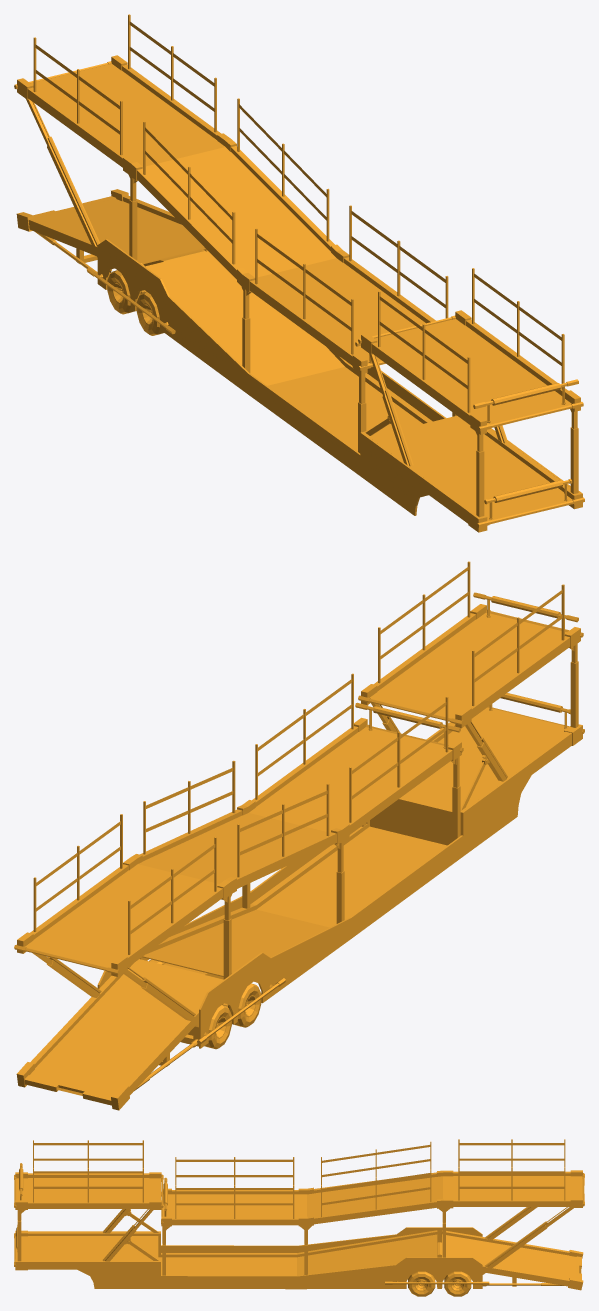
The model's file is SM_Car_Truck_Trailer_Car_Modern.fbx.
3 renders of one model, top to bottom at view 1: azimuth 30°, elevation 25°; view 2: azimuth 150°, elevation 25°; view 3: azimuth 270°, elevation 25°, orthographic. The views are drawn at different scales.
Parts seen in each view (by area): view 1: SM_Car_Truck_Trailer_Car_Modern_Base, SM_Car_Truck_Trailer_Car_Modern_Wheel_RB, SM_Car_Truck_Trailer_Car_Modern_Wheel_RF; view 2: SM_Car_Truck_Trailer_Car_Modern_Base, SM_Car_Truck_Trailer_Car_Modern_Wheel_RF, SM_Car_Truck_Trailer_Car_Modern_Wheel_RB; view 3: SM_Car_Truck_Trailer_Car_Modern_Base, SM_Car_Truck_Trailer_Car_Modern_Wheel_LF, SM_Car_Truck_Trailer_Car_Modern_Wheel_LB.
Part boxes in pixels (x1=…): SM_Car_Truck_Trailer_Car_Modern_Base: x1=14, y1=14, x2=584, y2=532; SM_Car_Truck_Trailer_Car_Modern_Wheel_RB: x1=107, y1=270, x2=146, y2=314; SM_Car_Truck_Trailer_Car_Modern_Wheel_RF: x1=136, y1=291, x2=163, y2=335; SM_Car_Truck_Trailer_Car_Modern_Base: x1=14, y1=561, x2=584, y2=1110; SM_Car_Truck_Trailer_Car_Modern_Wheel_RF: x1=222, y1=983, x2=261, y2=1027; SM_Car_Truck_Trailer_Car_Modern_Wheel_RB: x1=187, y1=1005, x2=231, y2=1049; SM_Car_Truck_Trailer_Car_Modern_Base: x1=14, y1=1139, x2=584, y2=1290; SM_Car_Truck_Trailer_Car_Modern_Wheel_LF: x1=408, y1=1271, x2=435, y2=1296; SM_Car_Truck_Trailer_Car_Modern_Wheel_LB: x1=444, y1=1271, x2=471, y2=1296.
Bounding box in the file's own units: 3.22 × 5.63 × 22.69.
